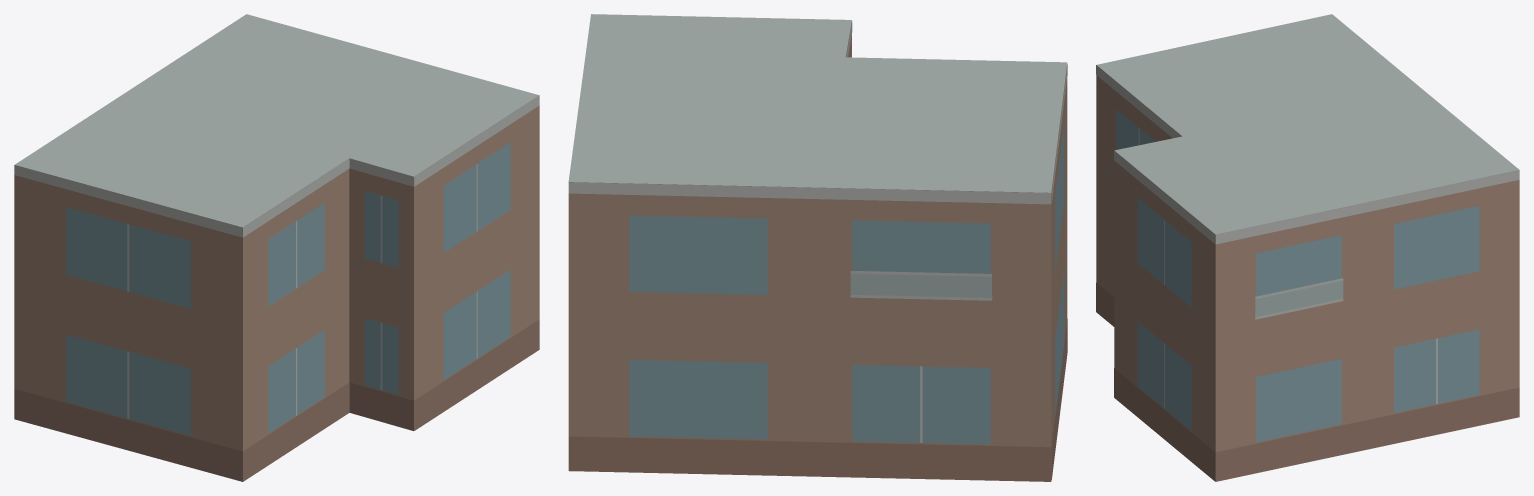
The model's file is survey-upis-32719297.glb.
3 renders of one model, left to right at view 1: azimuth 30°, elevation 25°; view 2: azimuth 150°, elevation 25°; view 3: azimuth 270°, elevation 25°, orthographic. The views are drawn at different scales.
Visible parts, largest first — view 1: survey-upis-32719297.tmp; view 2: survey-upis-32719297.tmp; view 3: survey-upis-32719297.tmp.
Part boxes in pixels (x1,y1,x2,y2): survey-upis-32719297.tmp: (14,14,539,481); survey-upis-32719297.tmp: (568,14,1067,481); survey-upis-32719297.tmp: (1096,14,1519,481).
Size of the model in its own units: 11.68 by 6.1 by 9.48.
